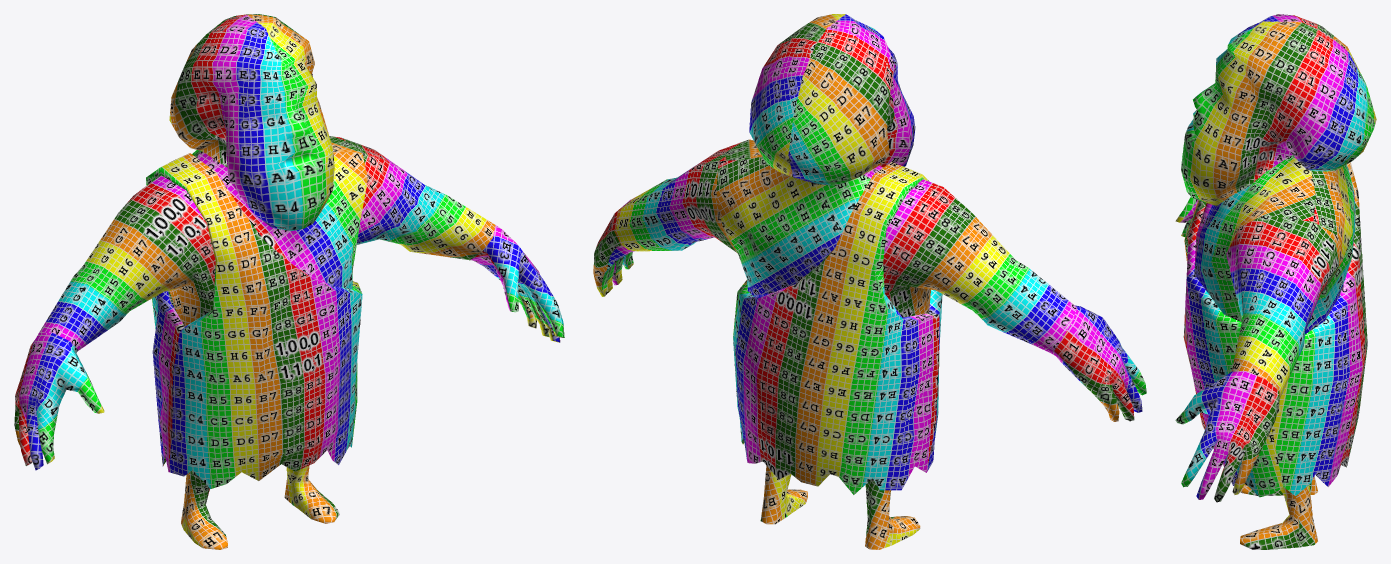
The model's file is man1.fbx.
3 renders of one model, left to right at view 1: azimuth 30°, elevation 25°; view 2: azimuth 150°, elevation 25°; view 3: azimuth 270°, elevation 25°, orthographic.
Parts seen in each view (by area): view 1: LP; view 2: LP; view 3: LP.
Boxes of the visible parts, box(x1,y1,x2,y2) form: LP: box(14, 14, 564, 549); LP: box(593, 14, 1146, 549); LP: box(1175, 14, 1376, 549).
Size of the model in its own units: 68.44 by 61.55 by 22.68.
Materials: 1 (1 with a texture image).
